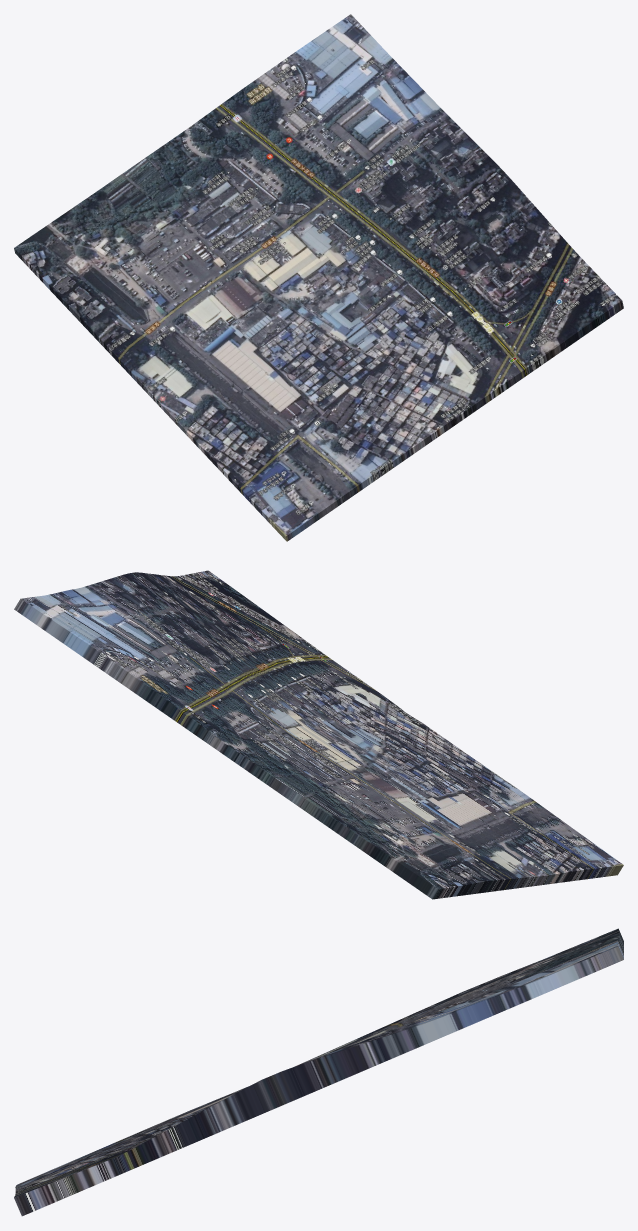
3 views of the same model, one above another, from view 1: azimuth 30°, elevation 25°; view 2: azimuth 150°, elevation 25°; view 3: azimuth 270°, elevation 25° (orthographic). The views are drawn at different scales.
Visible parts, largest first — view 1: 0_16_5; view 2: 0_16_5; view 3: 0_16_5.
Part boxes in pixels (left/top/right/bottom): 0_16_5: left=14, top=14, right=623, bottom=541; 0_16_5: left=14, top=570, right=623, bottom=899; 0_16_5: left=14, top=928, right=623, bottom=1216.
Size of the model in its own units: 597 by 439 by 549.
1 material, 1 textured.
